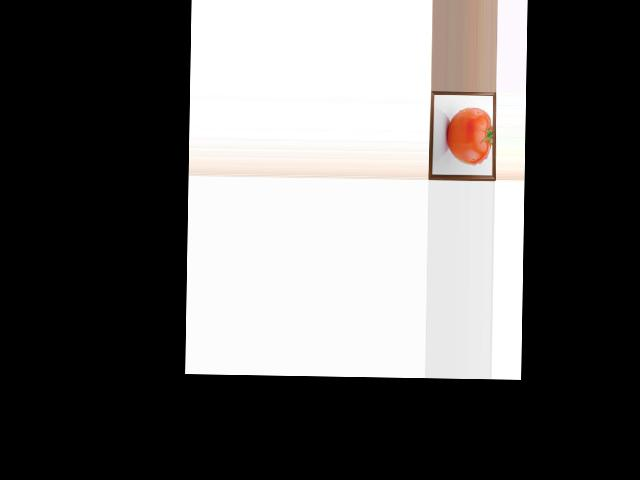tomato: (446, 107, 493, 165)
